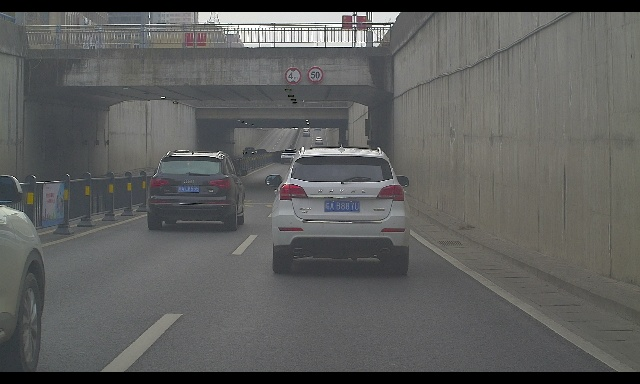car: (265, 144, 411, 274), (0, 175, 45, 372), (147, 150, 248, 231), (281, 149, 298, 164), (243, 147, 256, 159), (255, 149, 269, 158), (315, 137, 323, 144), (303, 130, 310, 137), (303, 126, 310, 132)
